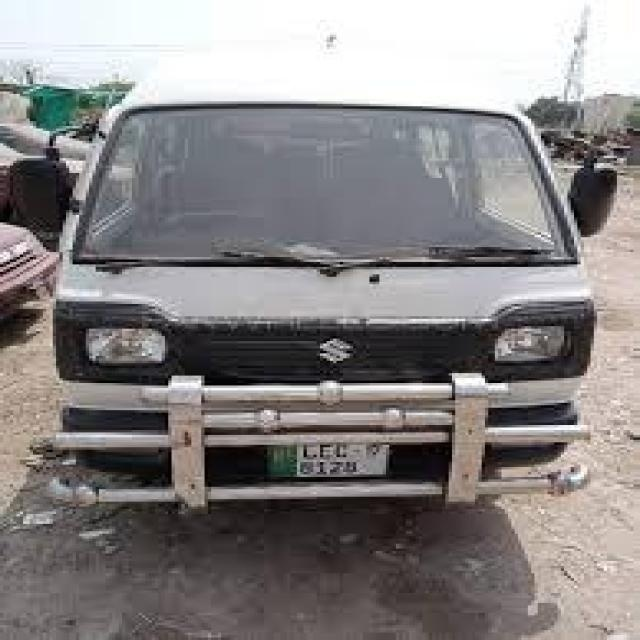Van: (10, 71, 640, 516)
